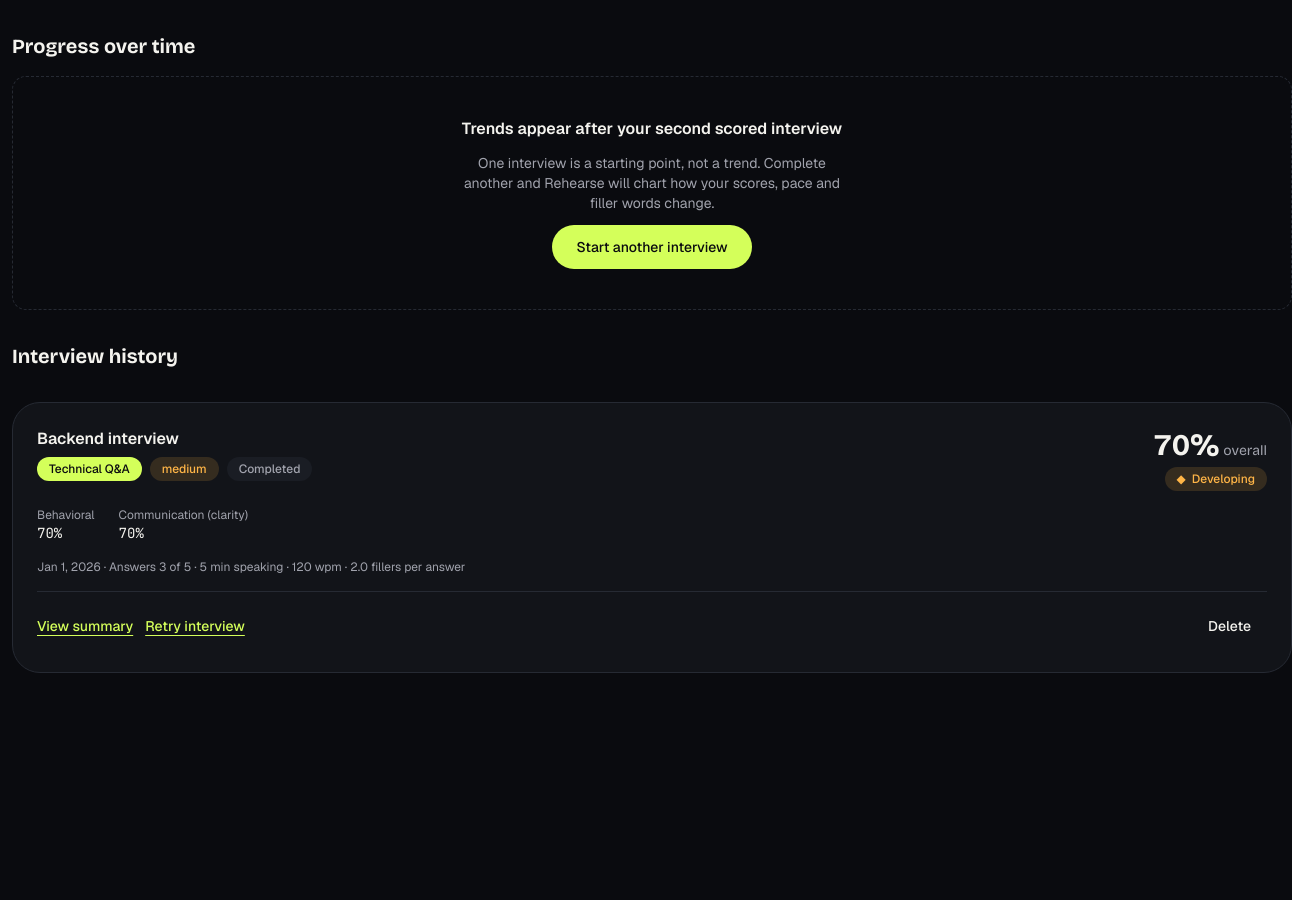
Test case: ProgressView › requires a confirmation step before deleting a session
expect the text "Delete this session's data" is not shown: met
Click the button "Delete" at (1229, 626), box [1192, 608, 1267, 644]
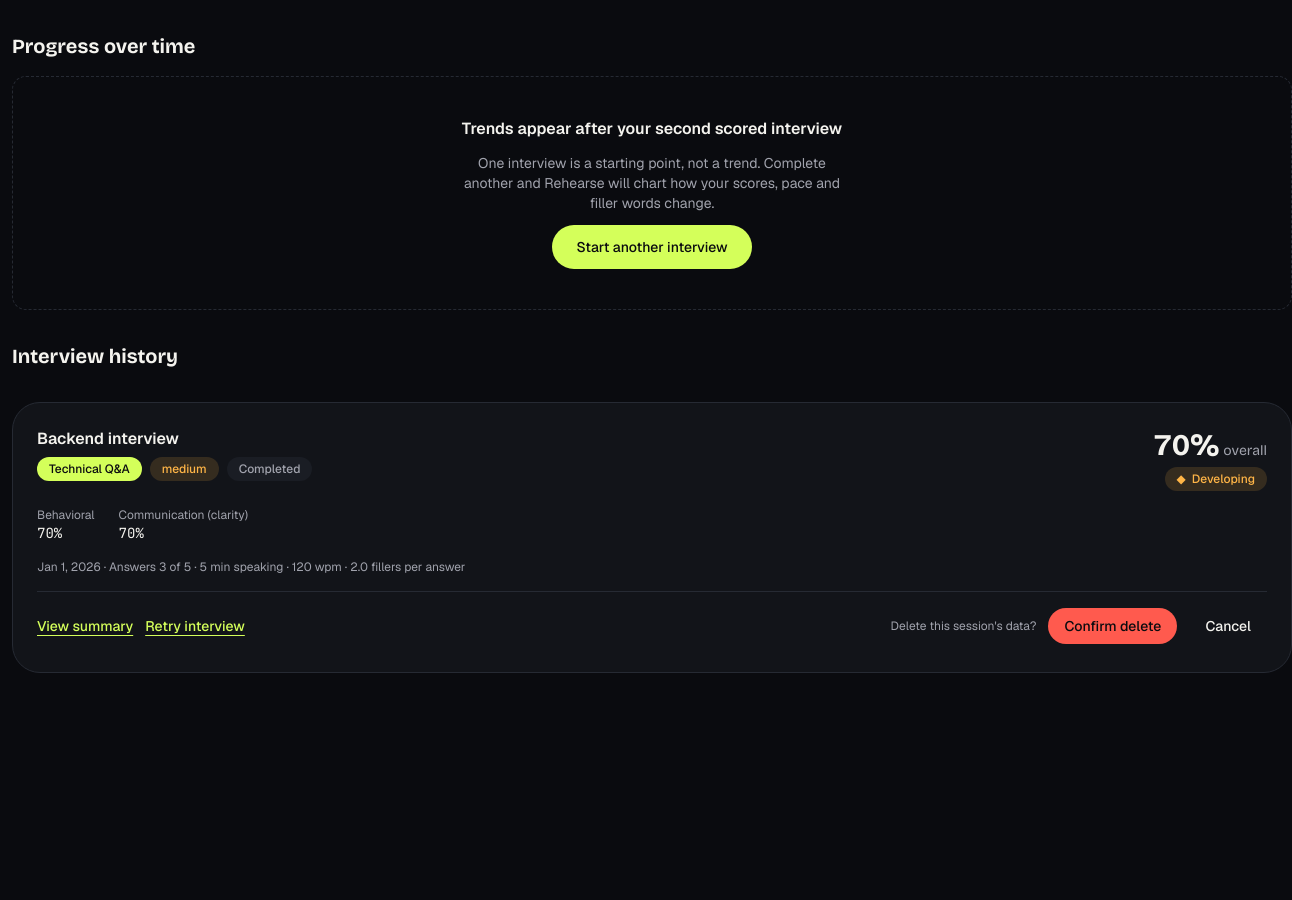
expect the text "Delete this session's data?" is shown: met, box [891, 618, 1036, 634]
